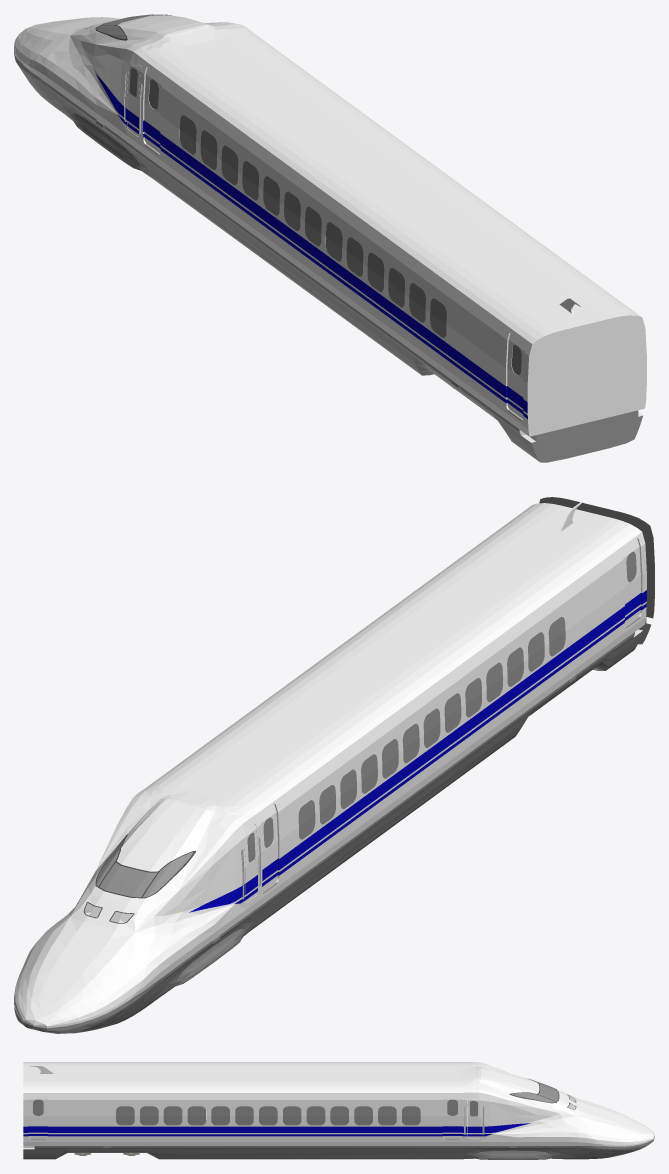
Rendered from JR700-simple-car16.glb.
The picture shows the model from 3 angles, top to bottom: view 1: azimuth 30°, elevation 25°; view 2: azimuth 150°, elevation 25°; view 3: azimuth 270°, elevation 25°; orthographic projection. The views are drawn at different scales.
Visible parts, largest first — view 1: コンポーネント#1, Component#2.002, Component#2.003, Object_39; view 2: コンポーネント#1, root, Component#2.003, Component#2.002, Object_39; view 3: コンポーネント#1, Component#2, Component#2.001, Object_18, Component#3.003, Component#3.009, Component#3.001, Component#3.002, Component#3.005, Component#3.006, Component#3.011, Component#3.012 (+5 smaller).
Part boxes in pixels (x1,y1,x2,y2): コンポーネント#1: [14, 14, 646, 462]; Component#2.002: [144, 66, 163, 153]; Component#2.003: [507, 331, 526, 418]; Object_39: [127, 65, 141, 136]; コンポーネント#1: [14, 502, 646, 1033]; root: [539, 497, 654, 644]; Component#2.003: [621, 538, 640, 625]; Component#2.002: [258, 804, 277, 891]; Object_39: [244, 824, 257, 902]; コンポーネント#1: [23, 1062, 654, 1159]; Component#2: [28, 1094, 48, 1138]; Component#2.001: [442, 1094, 462, 1138]; Object_18: [467, 1097, 480, 1137]; Component#3.003: [306, 1106, 325, 1125]; Component#3.009: [163, 1106, 182, 1125]; Component#3.001: [235, 1106, 253, 1125]; Component#3.002: [283, 1106, 301, 1125]; Component#3.005: [354, 1106, 372, 1125]; Component#3.006: [378, 1106, 396, 1125]; Component#3.011: [116, 1106, 134, 1125]; Component#3.012: [187, 1106, 205, 1125].
Size of the model in its own units: 3.38 by 4.01 by 27.59.
15 materials, 3 textured.
